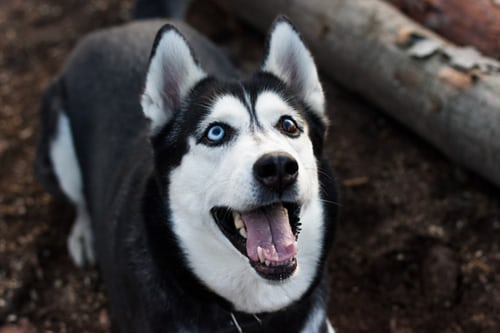husky: (115, 2, 348, 320)
